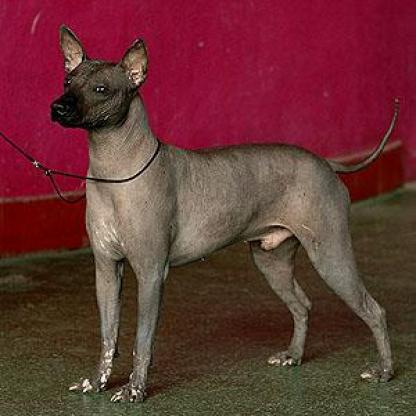Mexican_hairless: (42, 12, 404, 407)
